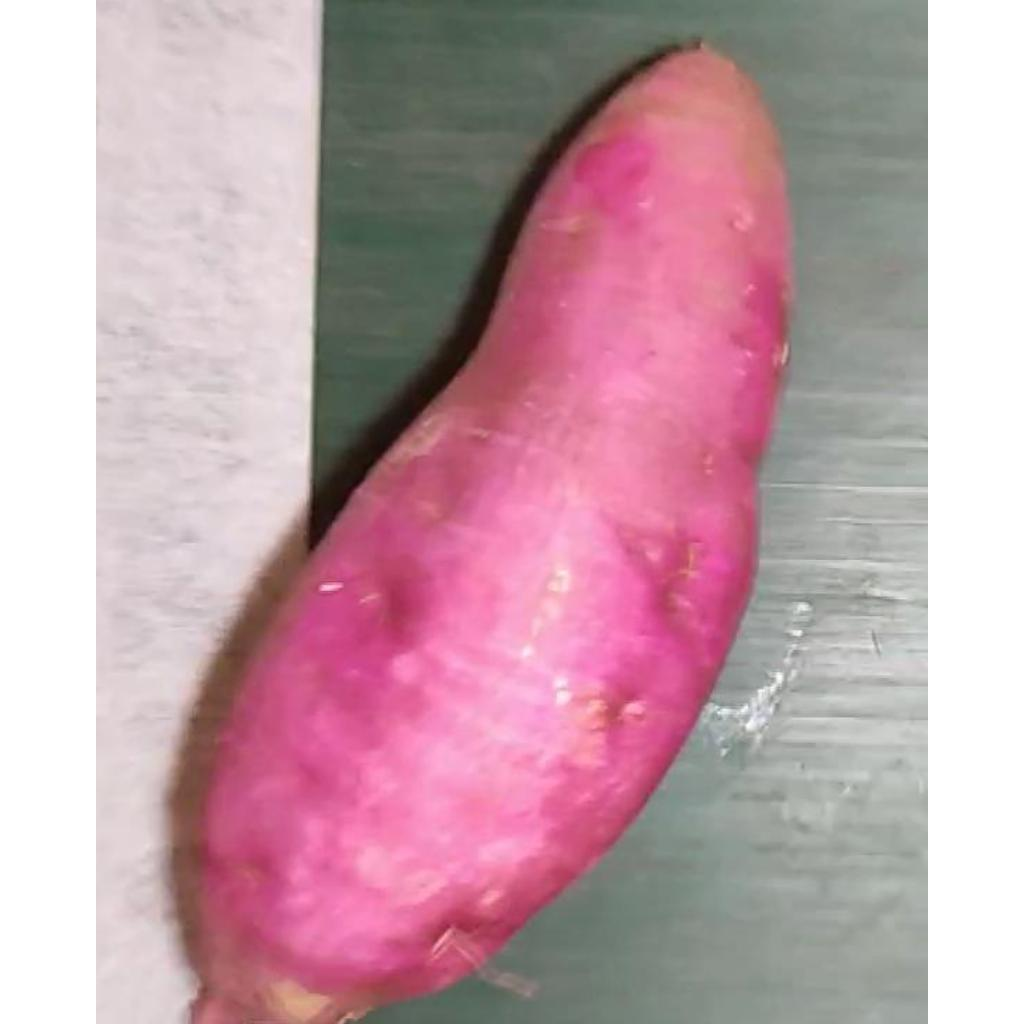Sweet Potato: (196, 42, 796, 1024)
